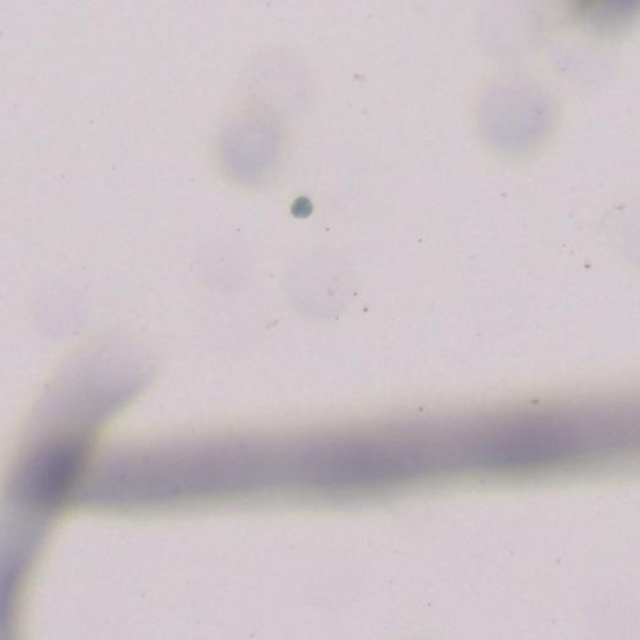non_viable: (290, 195, 312, 218)
